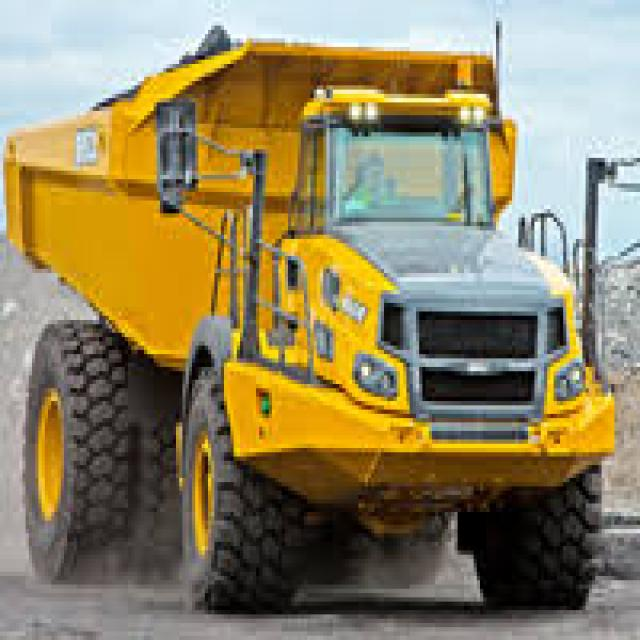dump_truck: (6, 22, 618, 628)
